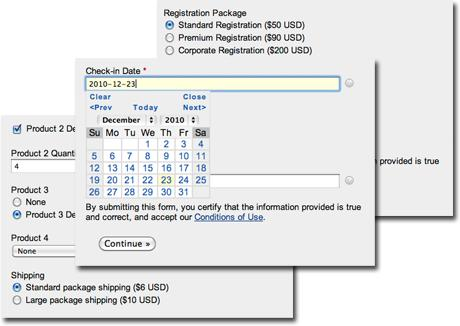radiobutton: (9, 295, 24, 308), (164, 30, 176, 45), (164, 18, 176, 32), (161, 47, 176, 57), (10, 282, 23, 293)
